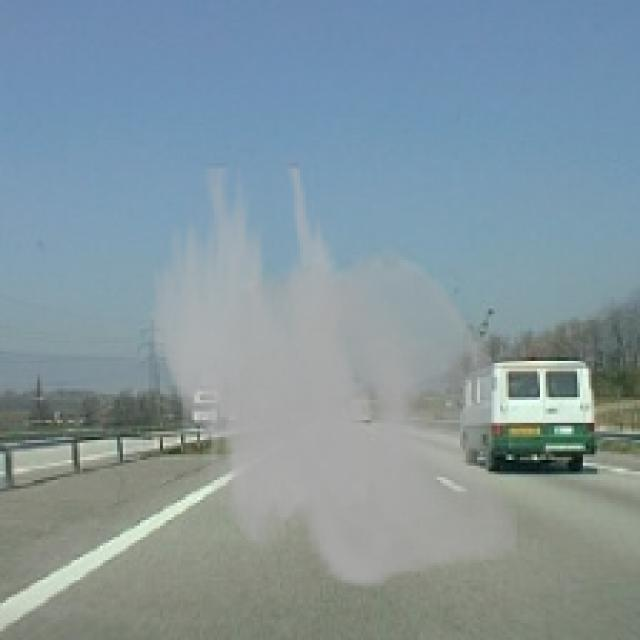smoke: (143, 163, 520, 588)
